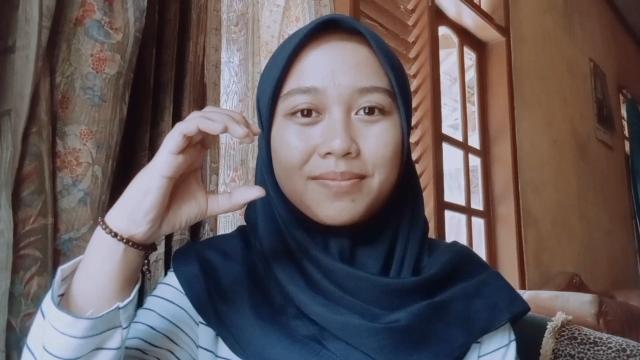C: (130, 104, 266, 236)
